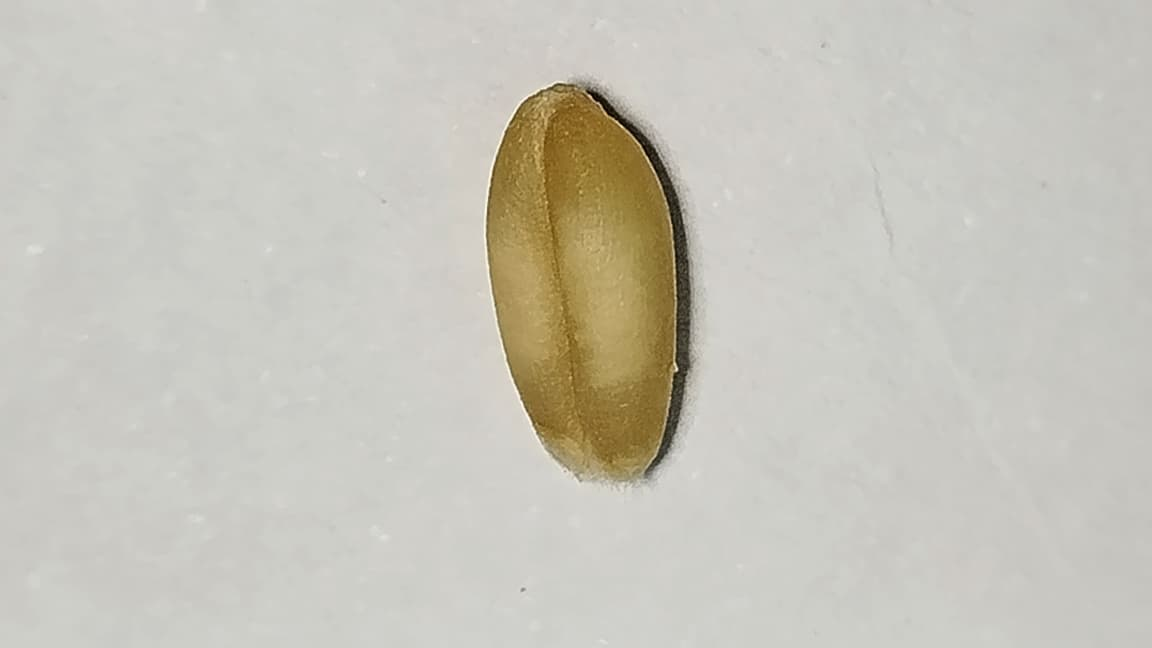healthy: (487, 85, 677, 485)
